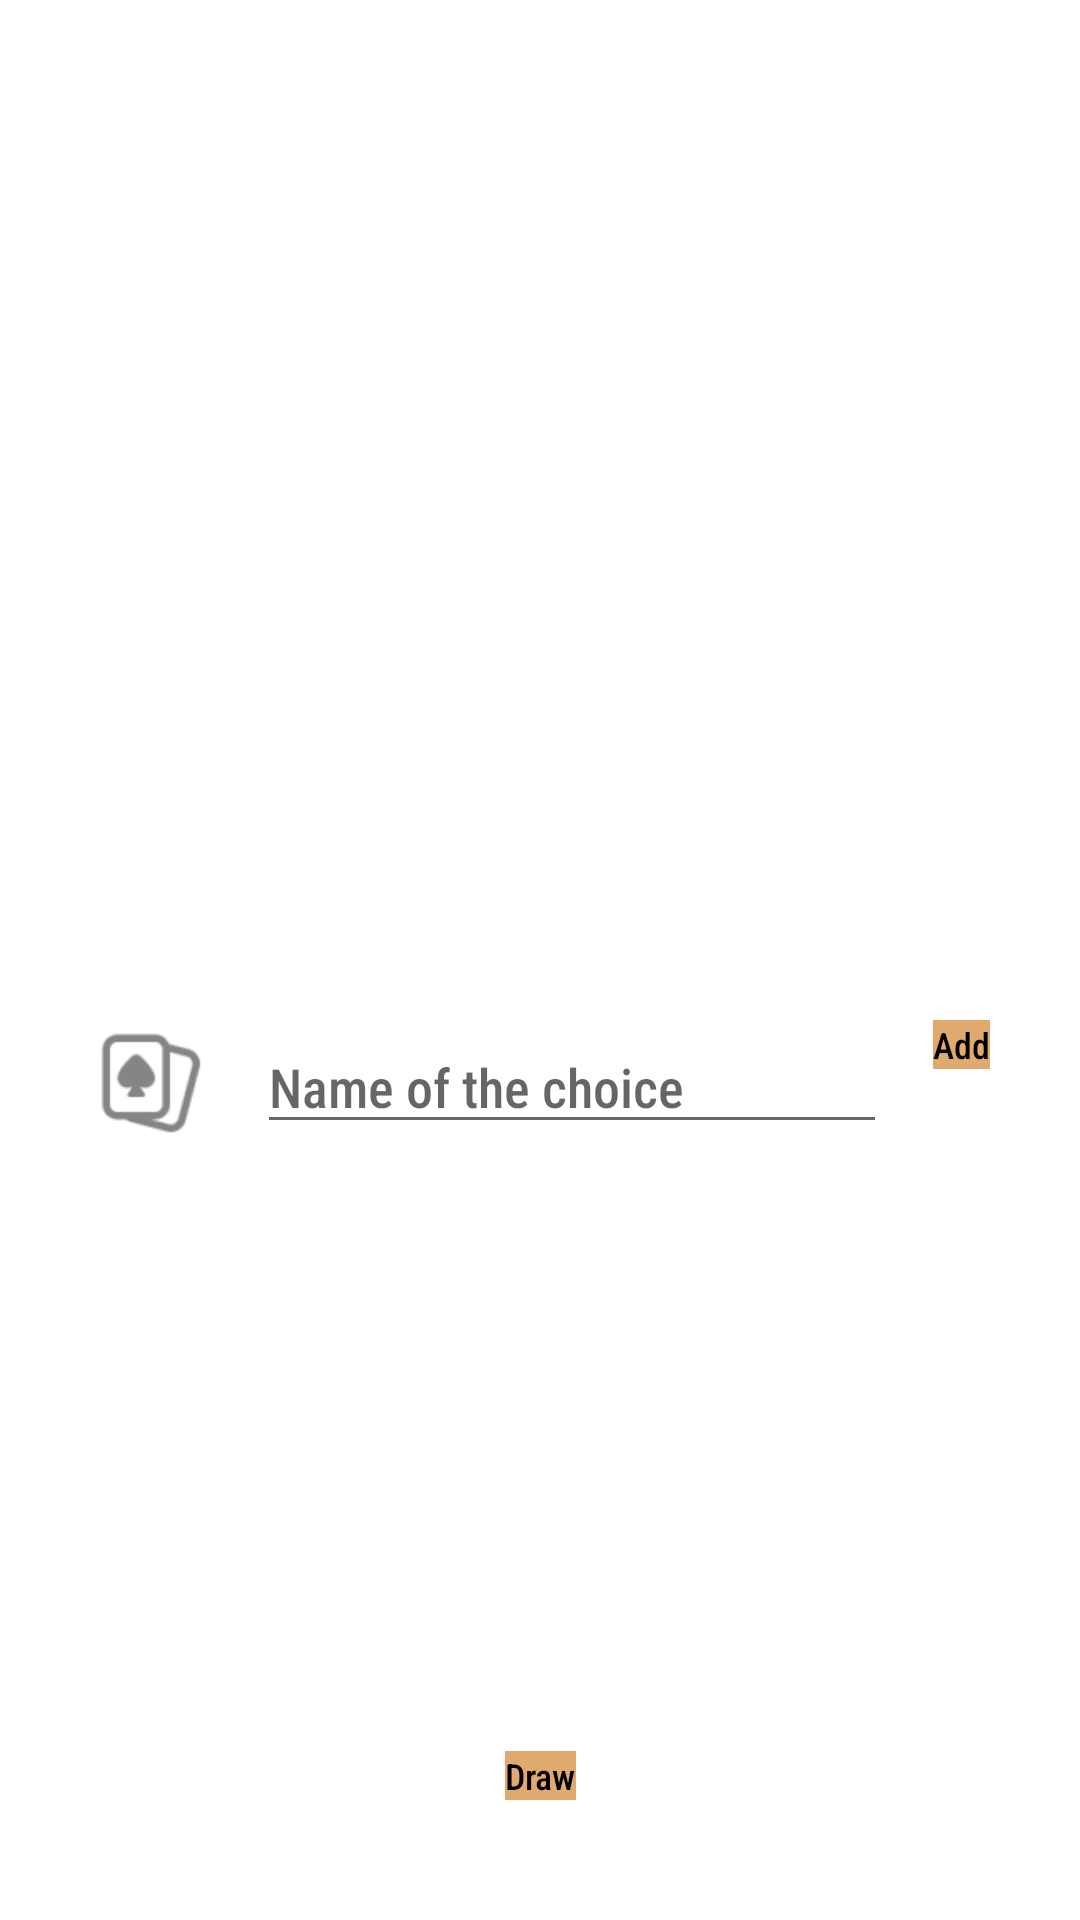

Where icons sit on this 1080x1920 app screen, as (x1, y1, x2, y2):
cards: (101, 1033, 200, 1132)
